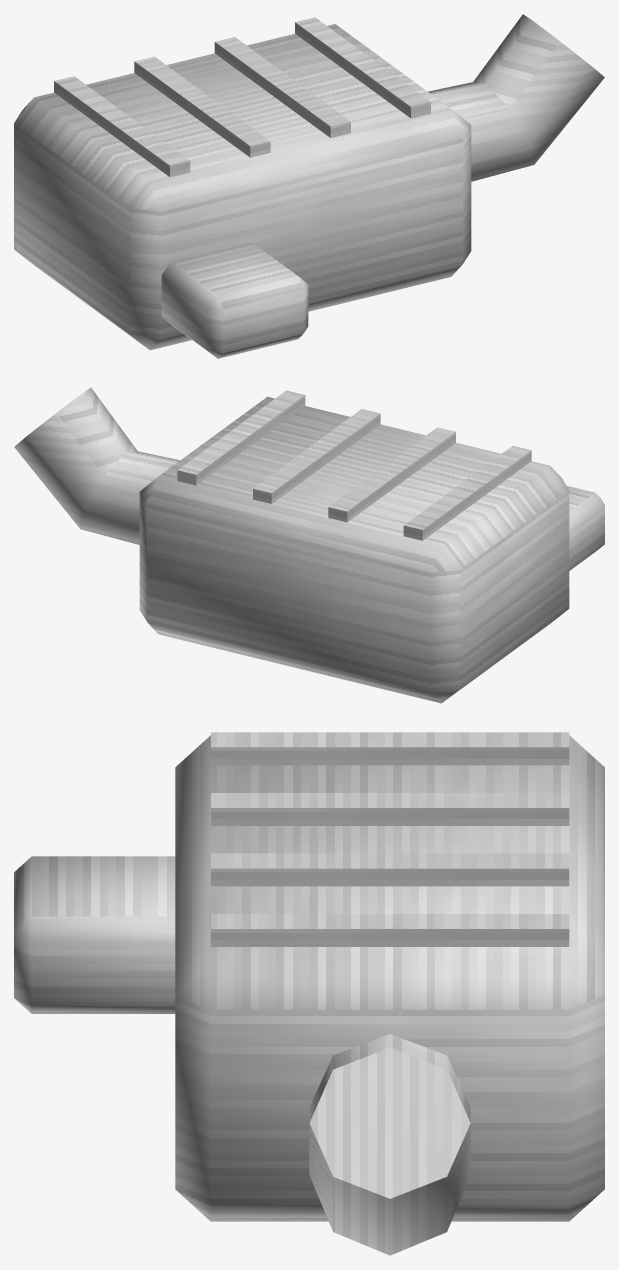
File: filtro_ar_fabrica.glb
The picture shows the model from 3 angles, top to bottom: view 1: azimuth 30°, elevation 25°; view 2: azimuth 150°, elevation 25°; view 3: azimuth 270°, elevation 25°; orthographic projection. The views are drawn at different scales.
Visible parts, largest first — view 1: filtro_ar_fabrica; view 2: filtro_ar_fabrica; view 3: filtro_ar_fabrica.
Boxes of the visible parts, box(x1,y1,x2,y2) form: filtro_ar_fabrica: box(14, 14, 604, 358); filtro_ar_fabrica: box(14, 388, 604, 703); filtro_ar_fabrica: box(14, 732, 604, 1255).
Bounding box in the file's own units: 0.5218 × 0.1718 × 0.33.
1 material, 1 textured.
